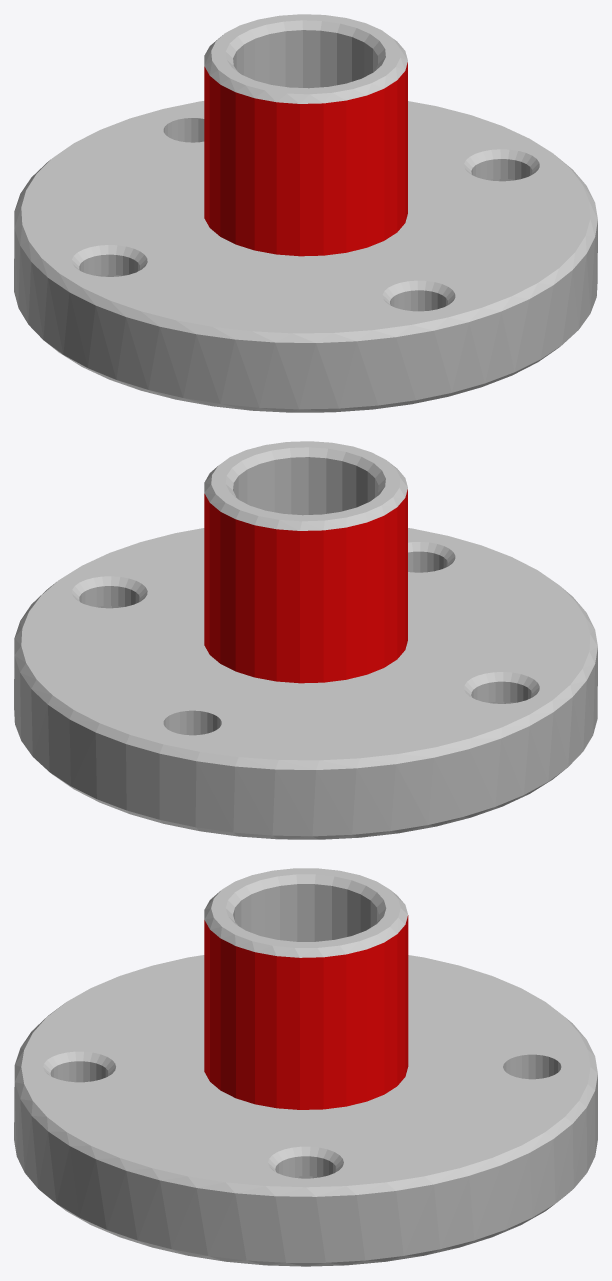
Rendered from 953880_RW44_IT48_stp_4.obj.
3 renders of one model, top to bottom at view 1: azimuth 30°, elevation 25°; view 2: azimuth 150°, elevation 25°; view 3: azimuth 270°, elevation 25°, orthographic.
Visible parts, largest first — view 1: Object1; view 2: Object1; view 3: Object1.
Part boxes in pixels (left/top/right/bottom): Object1: left=14, top=14, right=597, bottom=412; Object1: left=14, top=441, right=597, bottom=839; Object1: left=14, top=868, right=597, bottom=1266.
Bounding box in the file's own units: 39.98 × 18 × 40.
